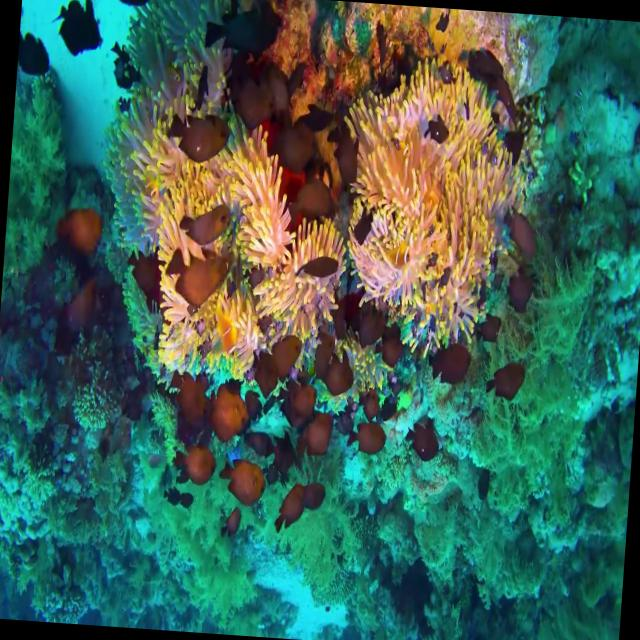fish: (212, 58, 292, 150), (201, 0, 289, 71), (162, 238, 232, 324), (160, 110, 236, 180), (260, 116, 328, 188), (280, 163, 340, 242), (121, 240, 172, 324), (420, 328, 480, 399), (50, 199, 110, 269), (208, 370, 258, 454), (173, 192, 237, 255), (50, 0, 113, 62), (215, 452, 272, 516), (168, 354, 212, 436), (498, 193, 546, 266), (493, 257, 542, 327), (480, 356, 544, 408), (171, 433, 217, 498), (293, 250, 347, 304), (373, 313, 412, 387), (280, 374, 328, 434), (400, 416, 448, 472), (265, 326, 309, 386), (351, 290, 390, 356), (342, 414, 390, 467), (270, 478, 310, 540), (244, 342, 280, 407), (328, 350, 362, 418), (302, 406, 335, 471), (16, 27, 54, 80), (108, 0, 160, 22)
